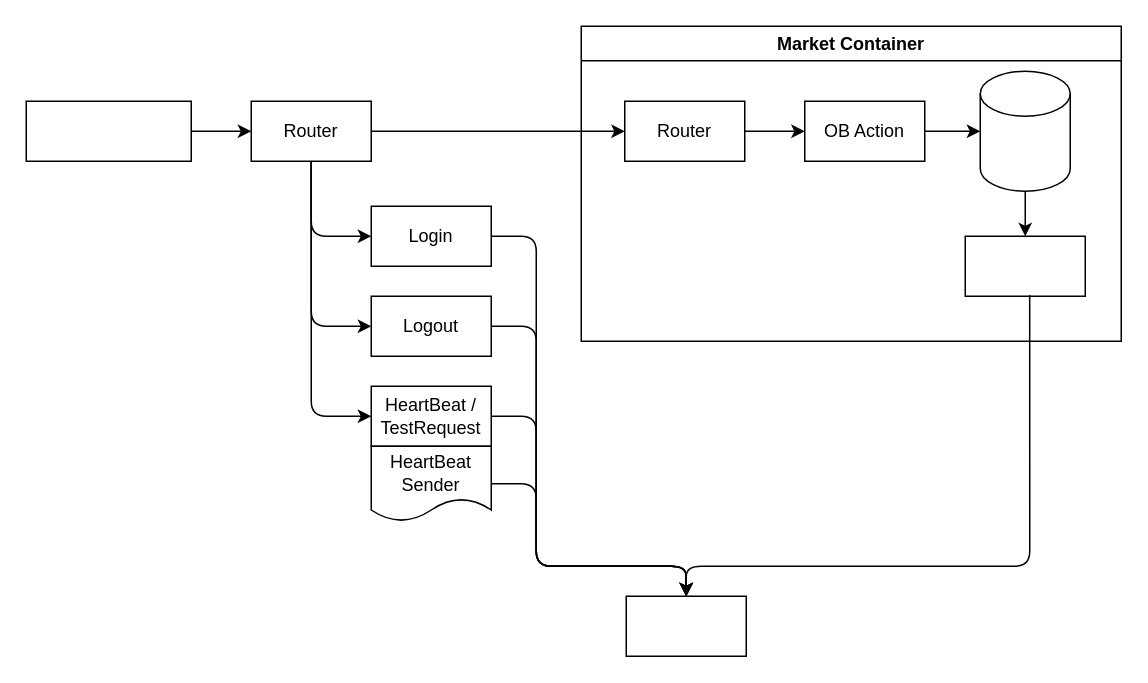
The diagram is 1148 pixels wide and 683 high, and some of its shapes have lost their labels. Here are the shapes that lost their labels. From the top down, the centre of each, then its label:
At (x=108, y=130): "TcpInpuNetwork".
At (x=1024, y=130): "OrderBook".
At (x=1024, y=265): "OB Event".
At (x=685, y=625): "TCP Output".
